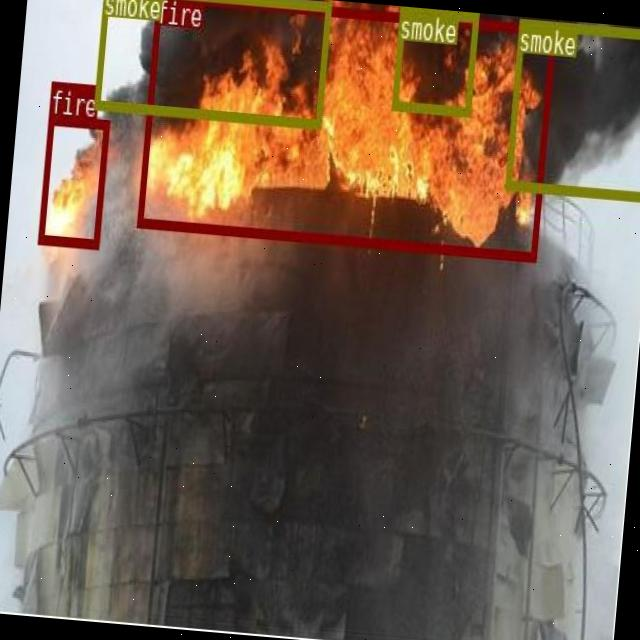fire: (135, 0, 554, 260), (38, 114, 108, 248)
smoke: (93, 0, 331, 127), (504, 18, 640, 199), (390, 6, 478, 113)
